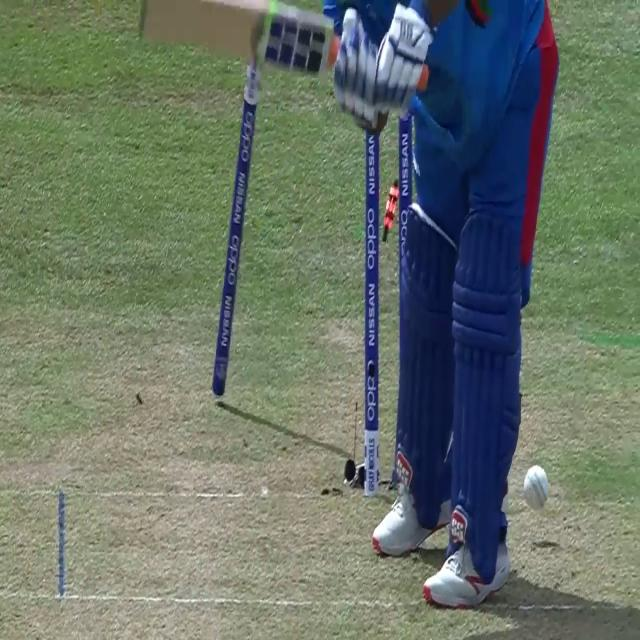ball: (522, 462, 552, 515)
